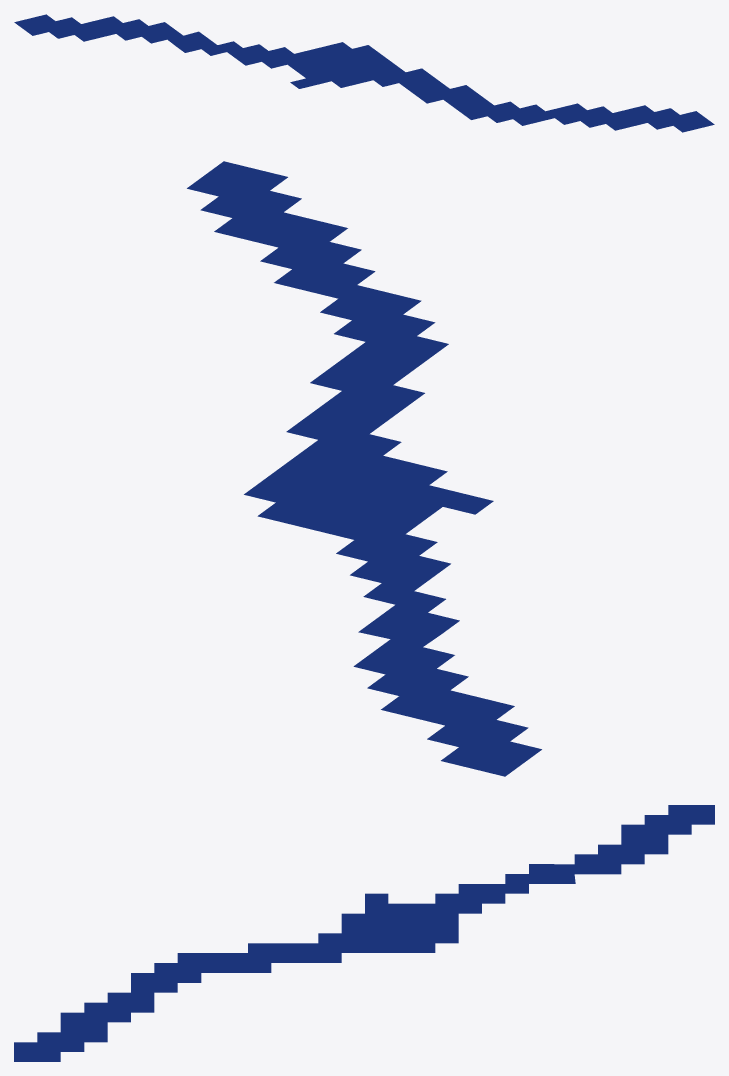
File: water.FBX
The picture shows the model from 3 angles, top to bottom: view 1: azimuth 30°, elevation 25°; view 2: azimuth 150°, elevation 25°; view 3: azimuth 270°, elevation 25°; orthographic projection. The views are drawn at different scales.
Visible parts, largest first — view 1: Object001; view 2: Object001; view 3: Object001.
Part boxes in pixels (x1,y1,x2,y2): Object001: (14, 14, 714, 132); Object001: (187, 161, 541, 776); Object001: (14, 805, 714, 1061).
Size of the model in its own units: 260 by 0.000103 by 300.
